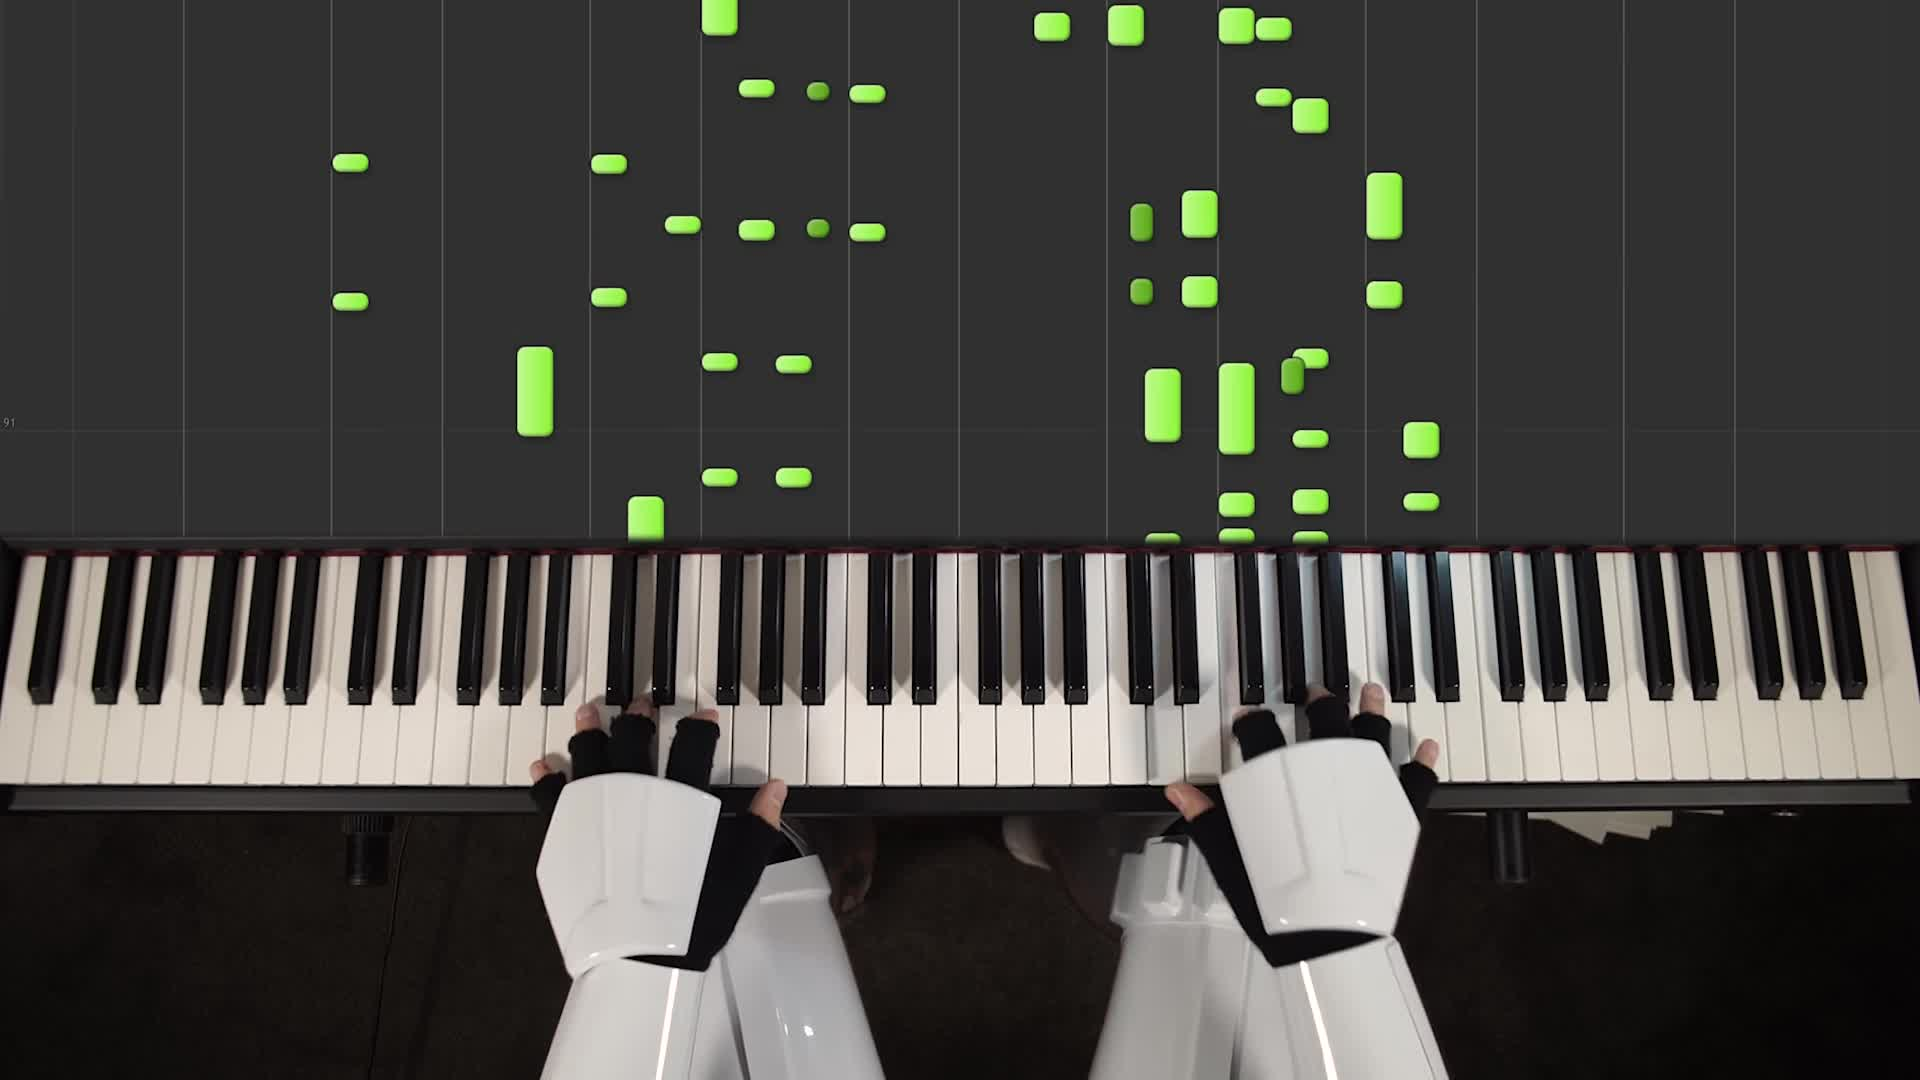left: (520, 684, 793, 968)
right: (1156, 676, 1444, 963)
